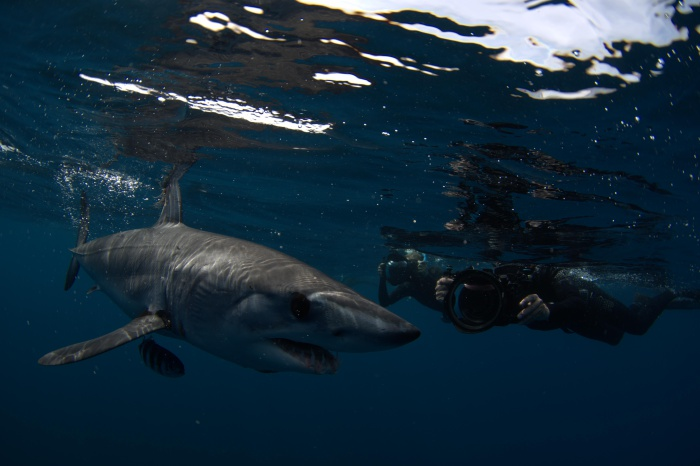Mako: (29, 177, 437, 404)
